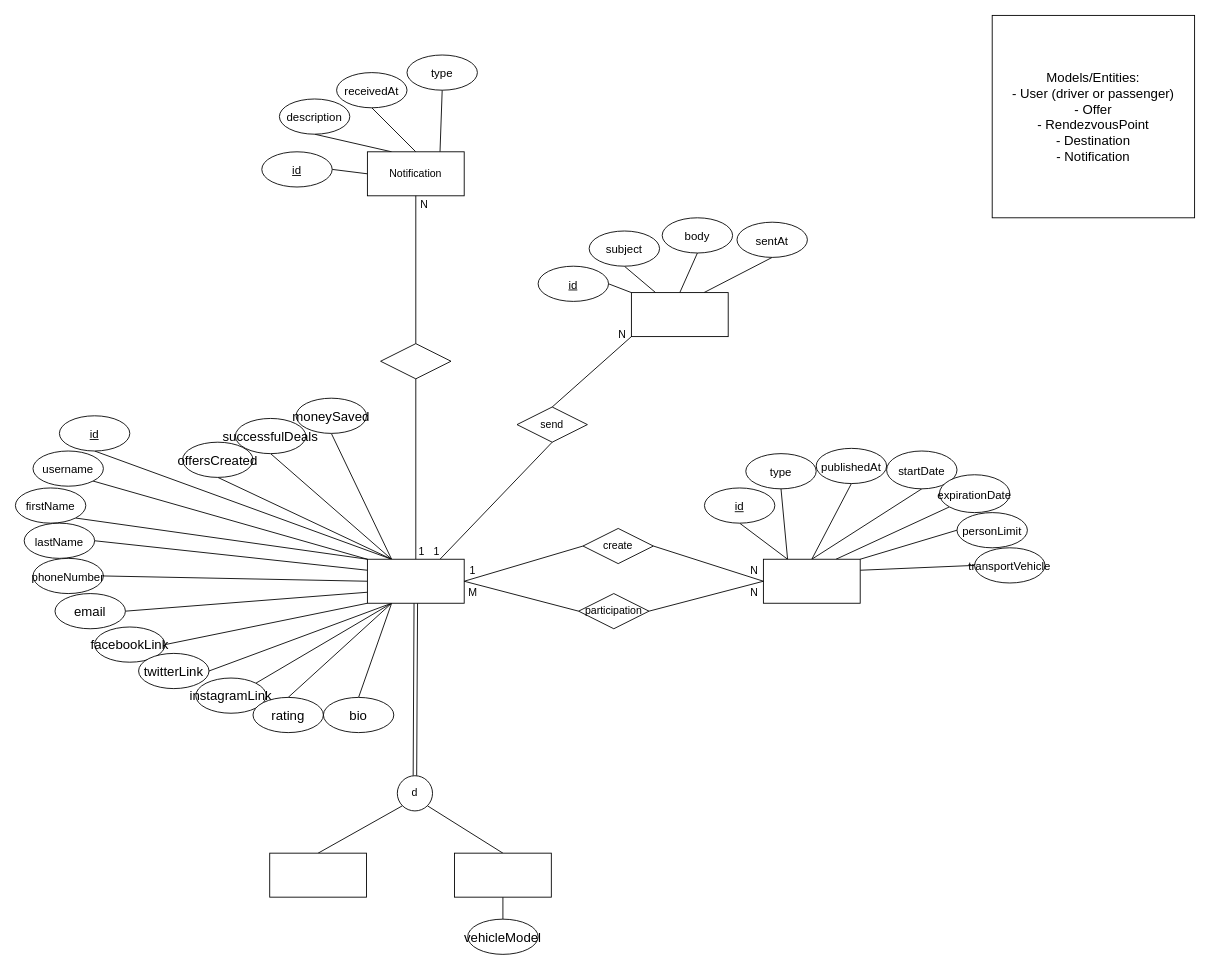
This 1210x970 diagram has some shape labels left out. Here are the shapes that lost their labels. From the top down, the centre of each, then its label:
At [679,314]: "Message".
At [415,361]: "receive".
At [415,580]: "User".
At [811,580]: "Offer".
At [318,874]: "Passenger".
At [502,874]: "Driver".
